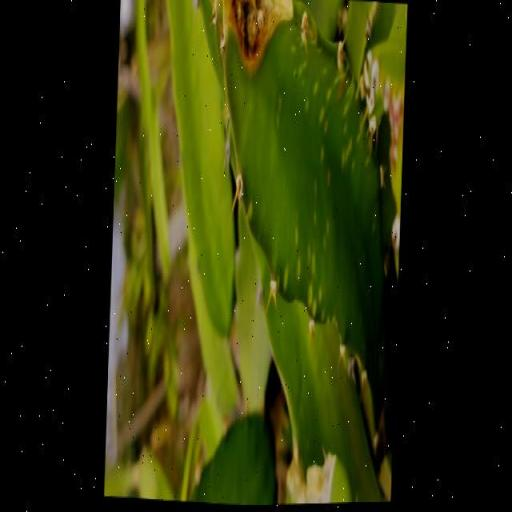stemcanker: (170, 255, 185, 292), (187, 271, 199, 310), (201, 282, 212, 310), (193, 311, 203, 338), (182, 134, 192, 158), (158, 132, 169, 152), (171, 186, 180, 208), (167, 209, 175, 233), (166, 162, 173, 180)
